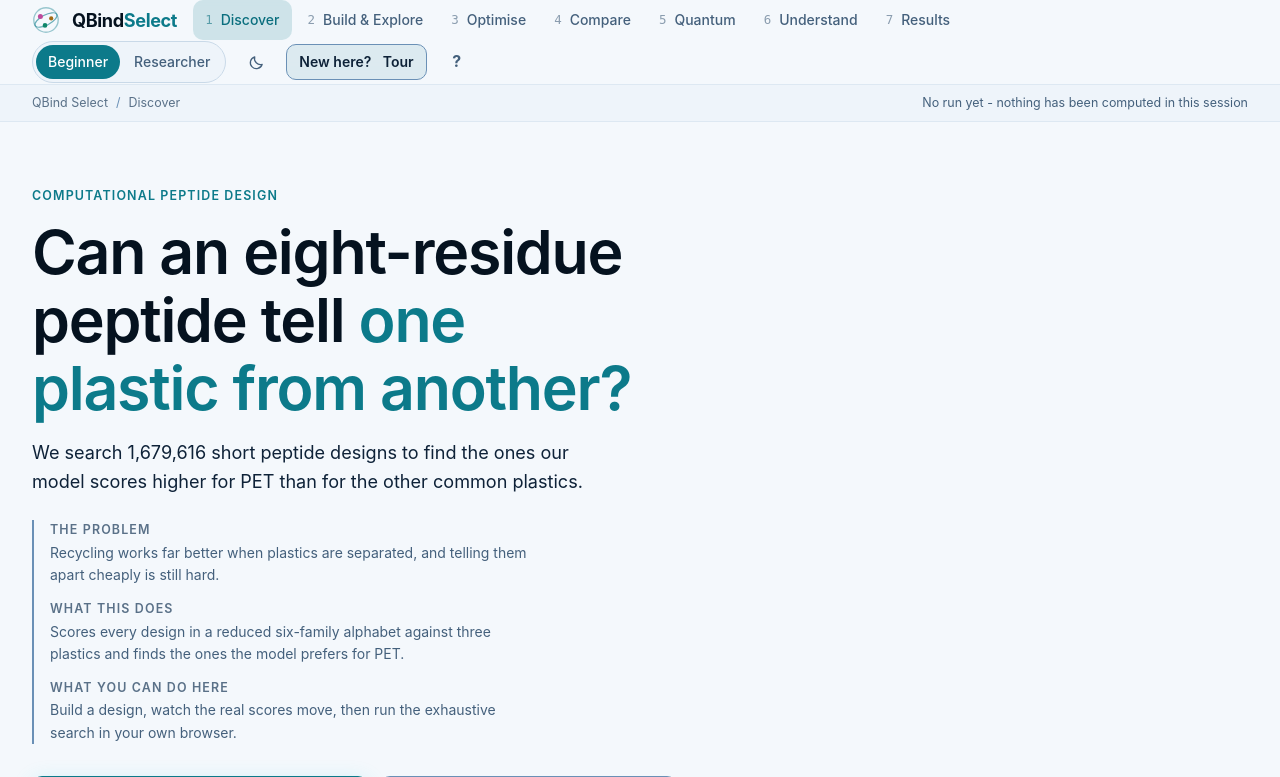
it: accessibility (axe-core) › labels every form control
Expected: the heading "Can an eight-residue peptide tell one plastic from another?" is shown, [32,218,718,422]
What coordinates should you click on to do the following:
click the link "3 Optimise"
I would click on:
 (489, 19)
Its box is [451,11,526,28].
(page scrolled)
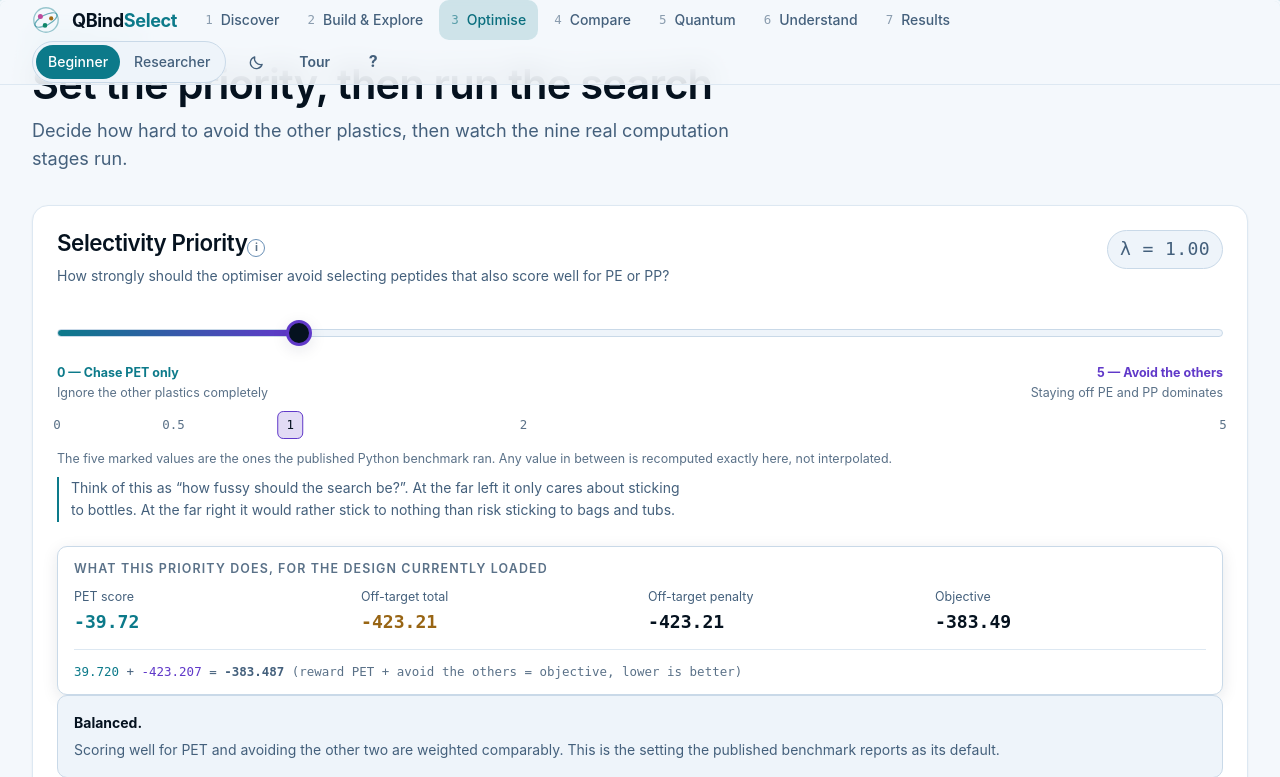
Expected: the heading "Set the priority, then run the search" is shown, [32,59,712,109]
